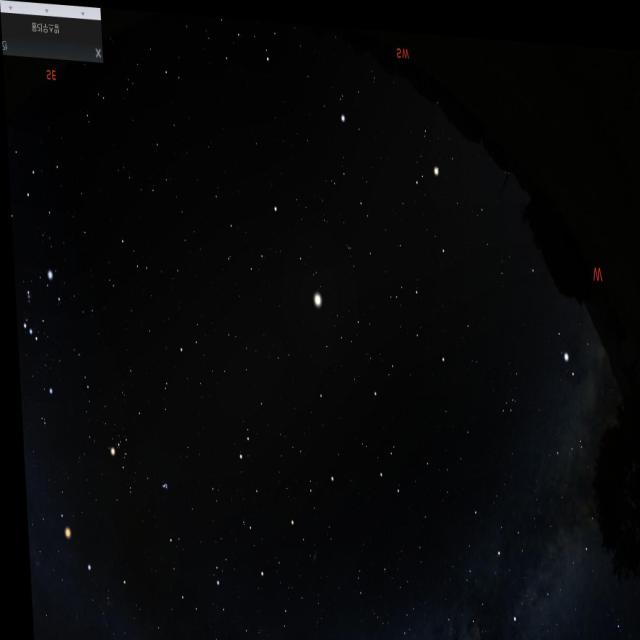cygnus: (472, 510, 594, 640)
orion: (10, 242, 61, 433)
pleiades: (148, 467, 170, 492)
taurus: (93, 402, 172, 519)
